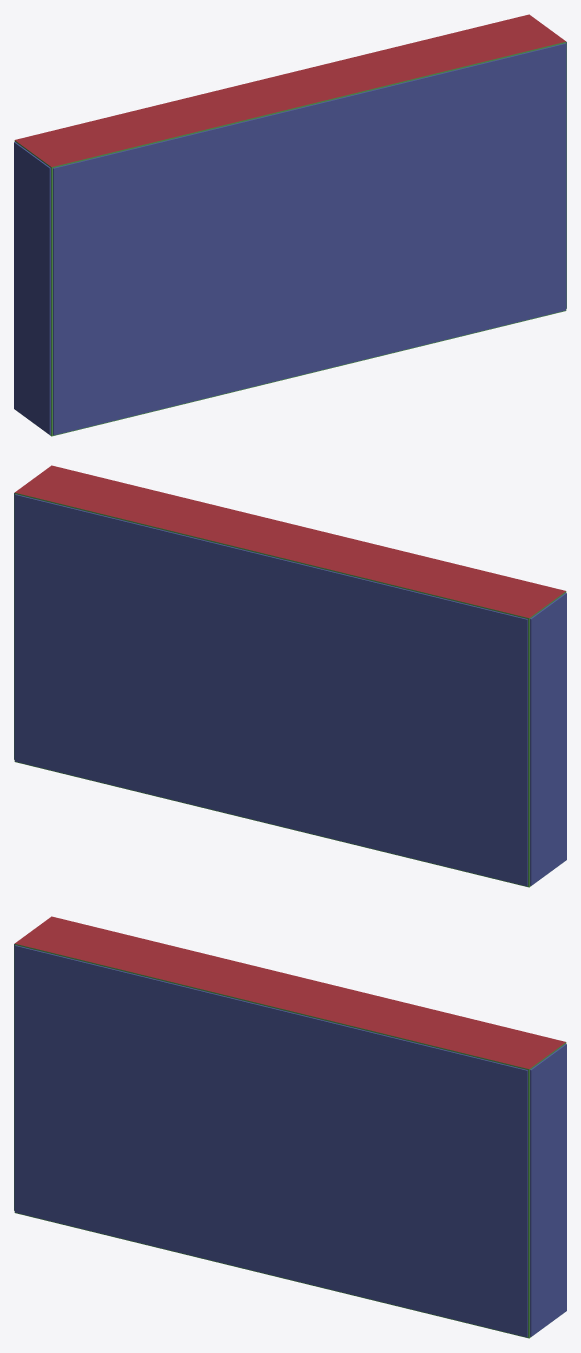
The model's file is SM_Wall_025.fbx.
The picture shows the model from 3 angles, top to bottom: view 1: azimuth 30°, elevation 25°; view 2: azimuth 150°, elevation 25°; view 3: azimuth 330°, elevation 25°; orthographic projection.
Visible parts, largest first — view 1: SM_Wall_025; view 2: SM_Wall_025; view 3: SM_Wall_025.
Part boxes in pixels (x1,y1,x2,y2): SM_Wall_025: (14,14,566,436); SM_Wall_025: (14,465,566,887); SM_Wall_025: (14,916,566,1338).
Bounding box in the file's own units: 804 × 400 × 104.
